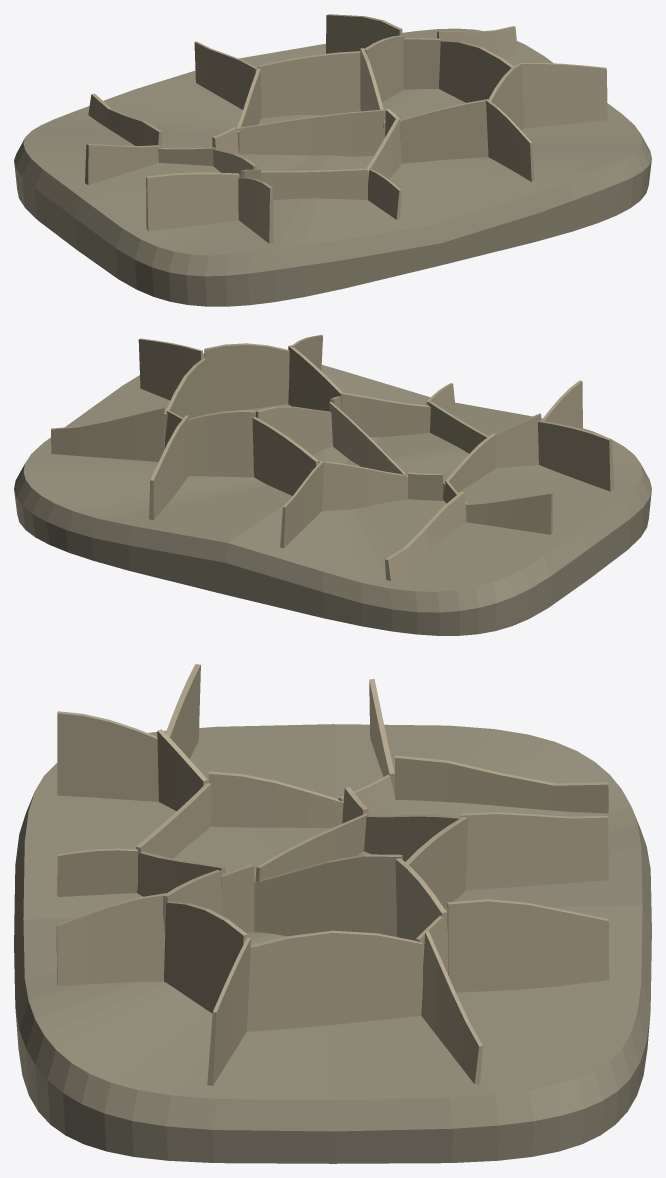
File: cave-boxwork.glb
3 views of the same model, one above another, from view 1: azimuth 30°, elevation 25°; view 2: azimuth 150°, elevation 25°; view 3: azimuth 270°, elevation 25° (orthographic). The views are drawn at different scales.
Visible parts, largest first — view 1: finite-attached-eroded-cave-rock-display-face, thin-intersecting-residual-mineral-fins-irregular-planar-cel; view 2: finite-attached-eroded-cave-rock-display-face, thin-intersecting-residual-mineral-fins-irregular-planar-cel; view 3: finite-attached-eroded-cave-rock-display-face, thin-intersecting-residual-mineral-fins-irregular-planar-cel.
Boxes of the visible parts, bbox=[...] form: finite-attached-eroded-cave-rock-display-face: bbox=[14, 28, 651, 306]; thin-intersecting-residual-mineral-fins-irregular-planar-cel: bbox=[85, 14, 607, 243]; finite-attached-eroded-cave-rock-display-face: bbox=[14, 353, 651, 635]; thin-intersecting-residual-mineral-fins-irregular-planar-cel: bbox=[51, 335, 614, 580]; finite-attached-eroded-cave-rock-display-face: bbox=[14, 724, 651, 1163]; thin-intersecting-residual-mineral-fins-irregular-planar-cel: bbox=[56, 664, 609, 1085].
Bounding box in the file's own units: 0.65 × 0.132 × 0.47.
